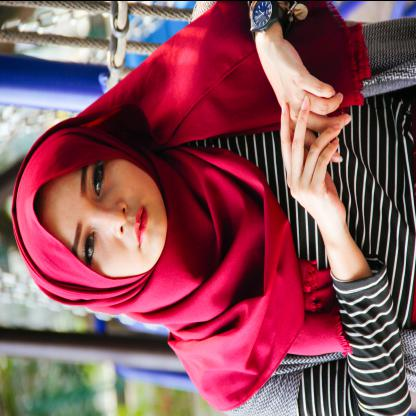Eye: (82, 228, 96, 266), (92, 160, 106, 196)
Mouth: (131, 202, 149, 250)
Nose: (97, 199, 129, 237)
